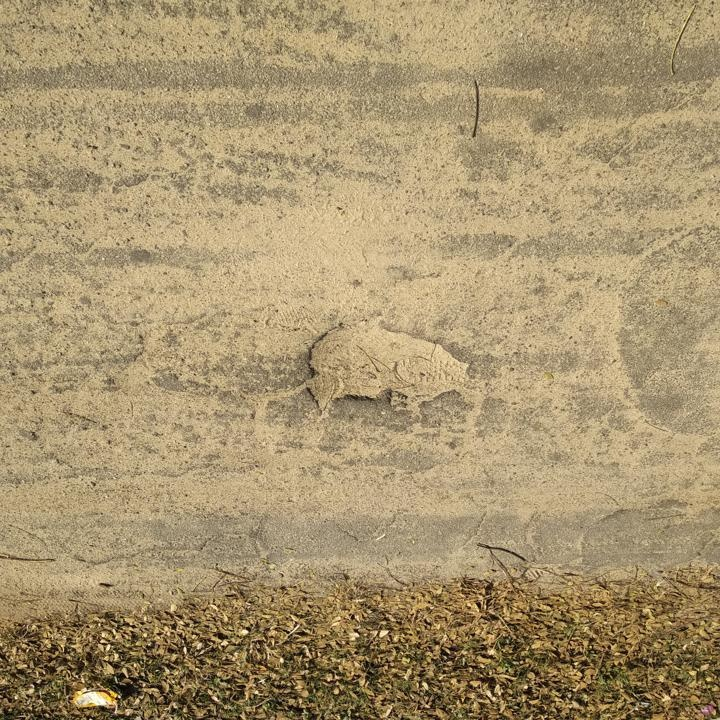pothole: (298, 324, 476, 422)
